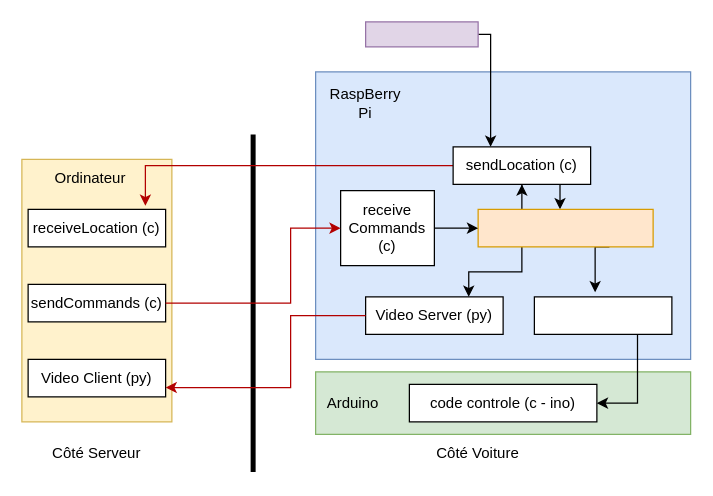
Some shapes in this 713 by 496 pixel diagram are drawn without their labels. The shapes that lost their labels are listed below. From the top down, each one's centre as x and y in pixels, then its label:
At point (421, 34): "marvelmind".
At point (565, 227): "Voiture Autonome (py)".
At point (602, 315): "Serial Communicator (py)".
